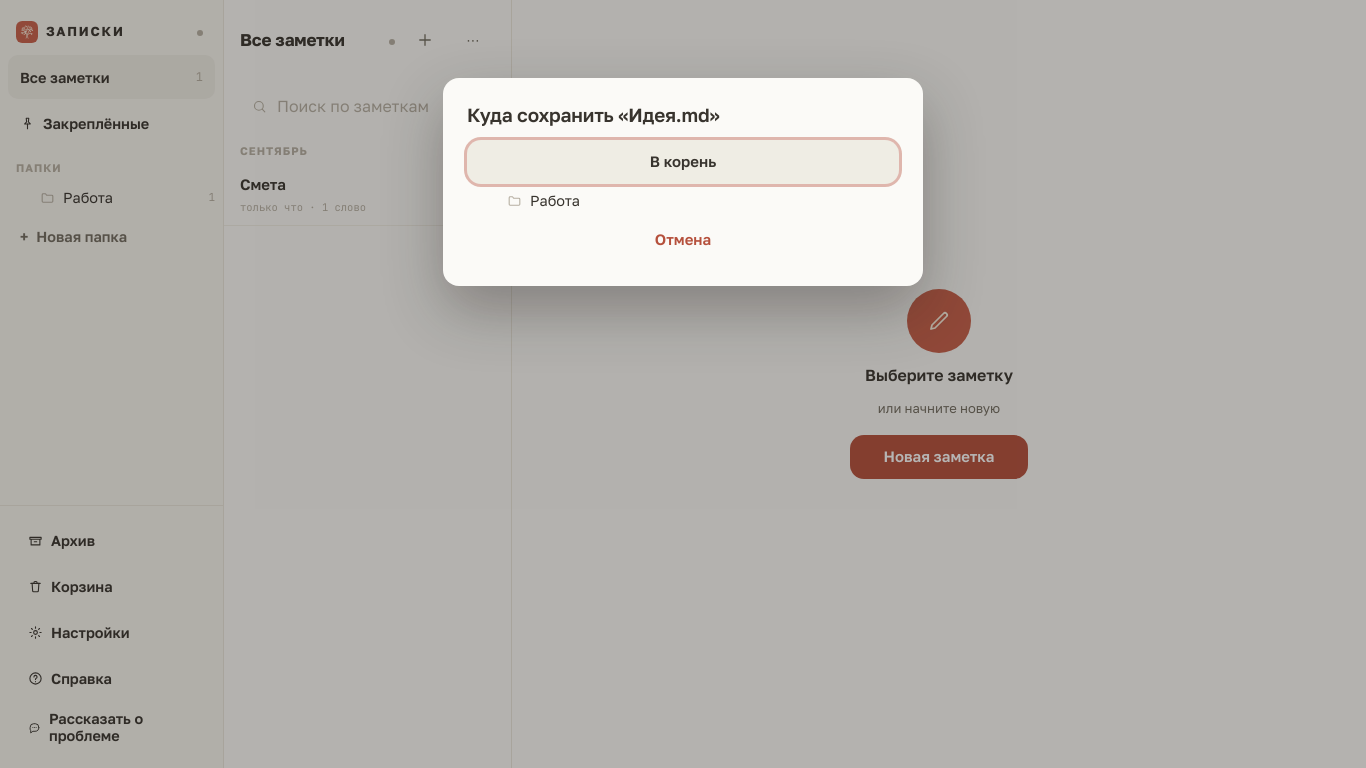
Test: намерение «open-file» доводит до диалога выбора папки › отмена ничего не создаёт
Click the button "Отмена" at (683, 240), box [467, 218, 899, 262]
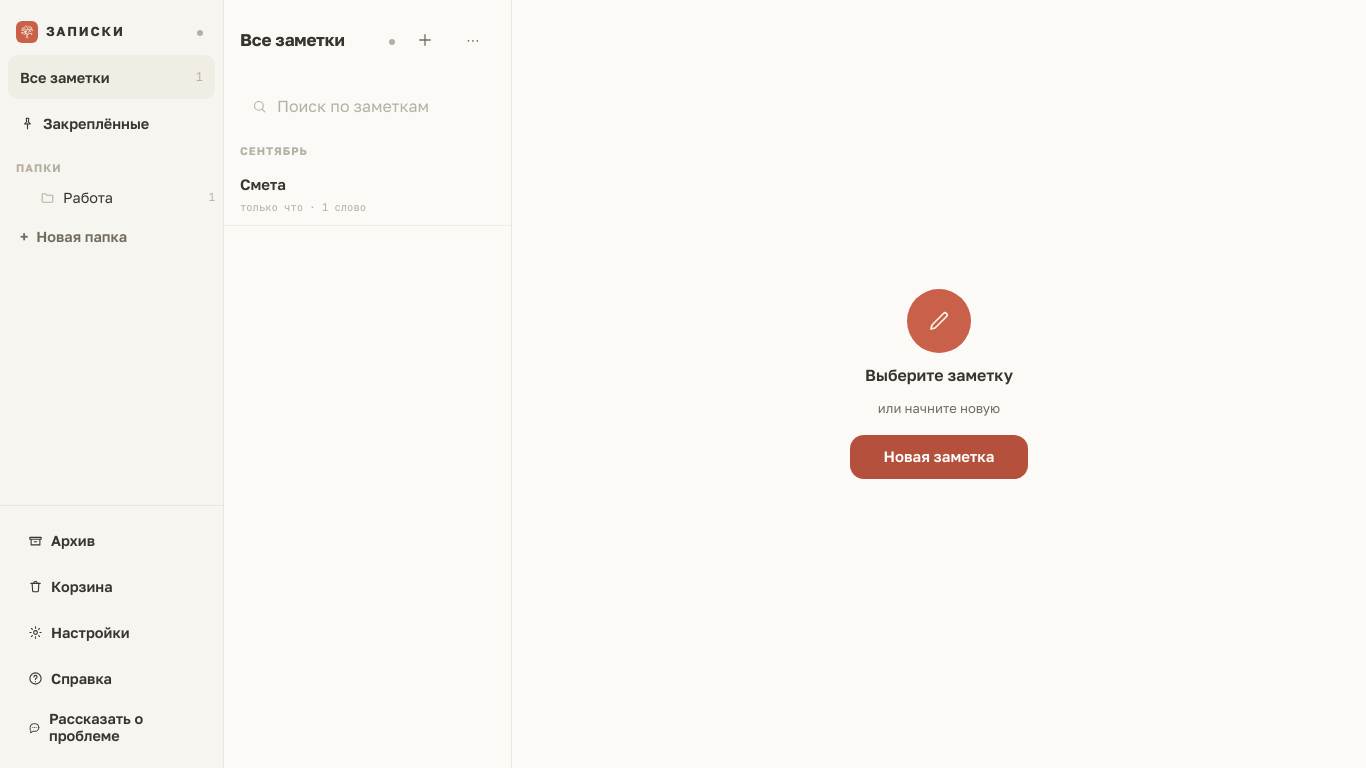
Expected: the dialog is gone
